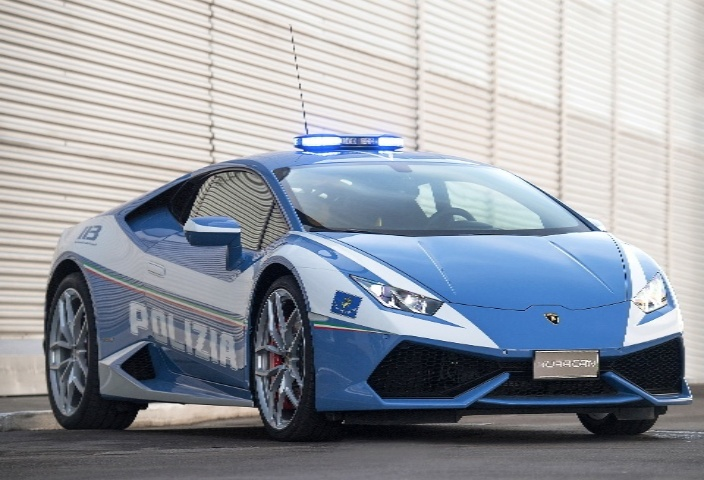car: (5, 118, 697, 448)
